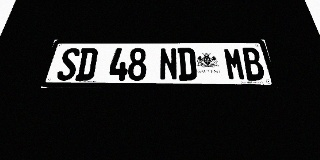4: (108, 48, 129, 80)
8: (127, 48, 147, 80)
B: (241, 48, 266, 80)
D: (75, 48, 98, 81), (177, 48, 197, 80)
M: (223, 48, 247, 80)
N: (159, 48, 178, 80)
S: (55, 48, 81, 81)
